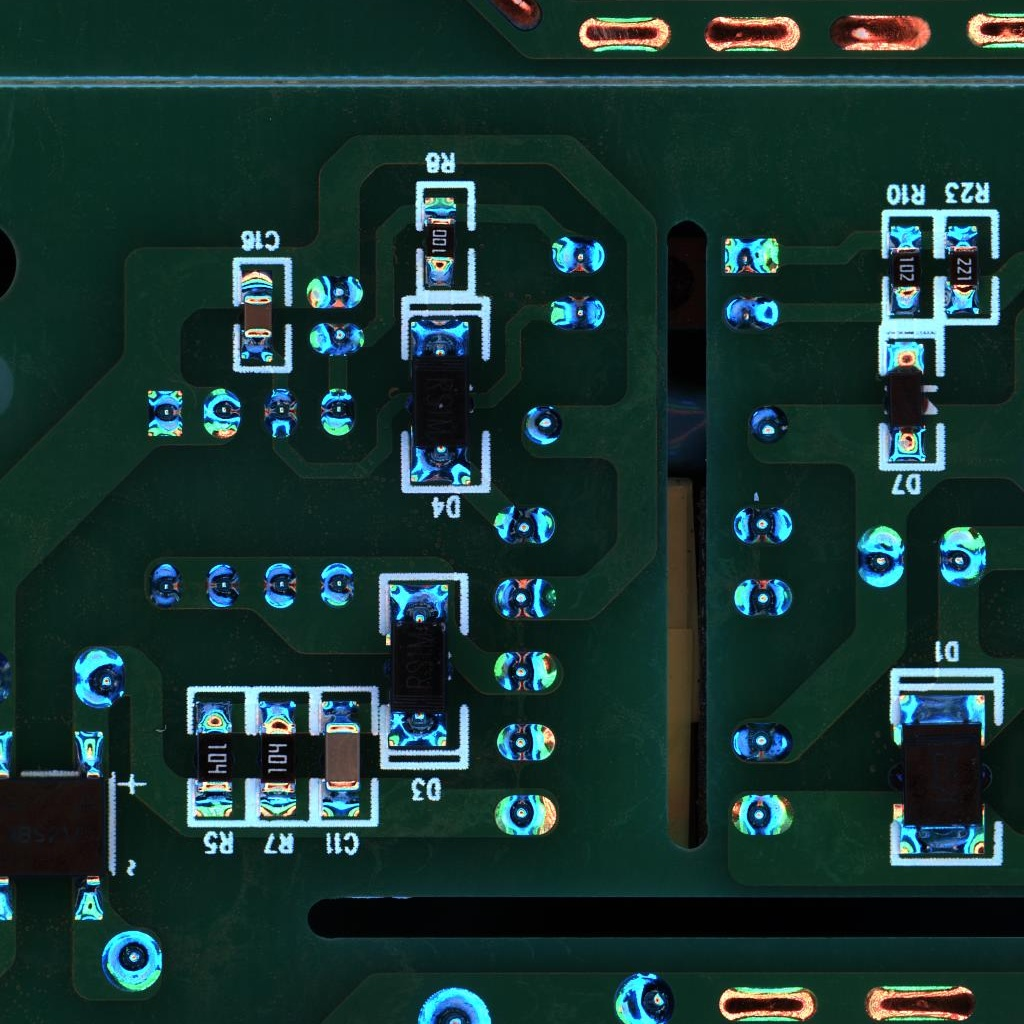spot: (98, 927, 167, 997), (70, 644, 127, 709), (610, 970, 678, 1024), (854, 523, 907, 591), (413, 982, 493, 1024), (937, 526, 988, 589), (727, 791, 797, 836), (492, 650, 561, 694), (494, 794, 560, 839), (492, 578, 561, 620), (492, 505, 558, 547), (730, 720, 794, 762), (495, 723, 559, 762), (733, 506, 793, 547), (732, 579, 795, 617), (545, 293, 606, 332), (721, 235, 781, 274), (721, 293, 781, 332), (306, 273, 366, 312), (547, 234, 606, 273), (201, 386, 243, 439), (306, 320, 366, 356), (145, 385, 185, 439), (145, 559, 186, 611), (318, 385, 357, 439), (261, 558, 298, 611), (263, 387, 300, 439), (318, 560, 356, 610), (205, 561, 241, 613), (521, 404, 564, 446), (748, 404, 790, 445)
